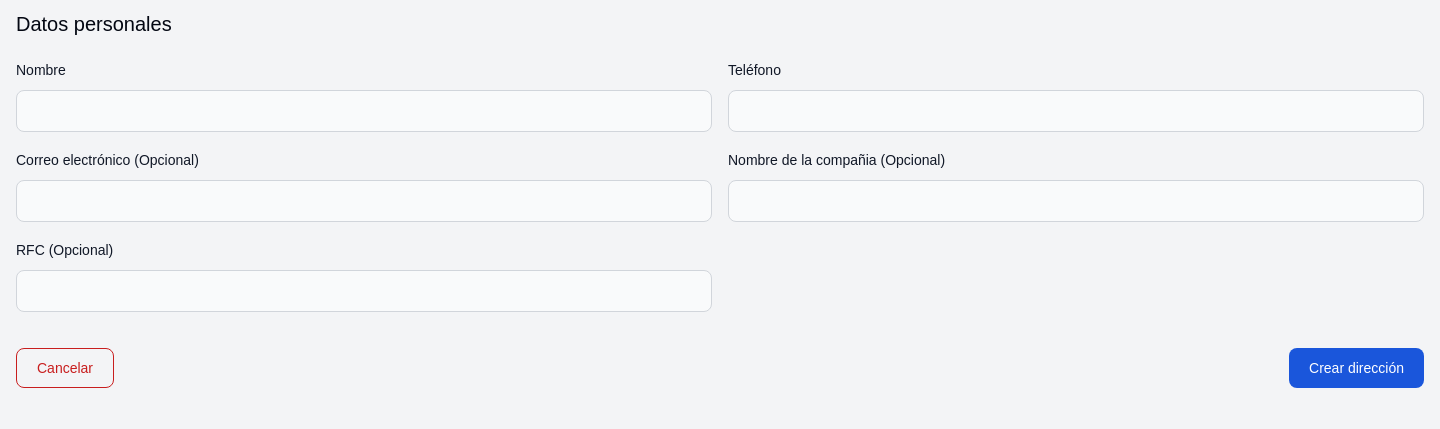
Test: Feature: Add Personal Information GE Subform › Error validation › Given the user submits empty form, When validation fails, Then it should display error messages
Click the button with test id "submit-button-create-address-ge": (1357, 368) x1=1289 y1=348 x2=1424 y2=388
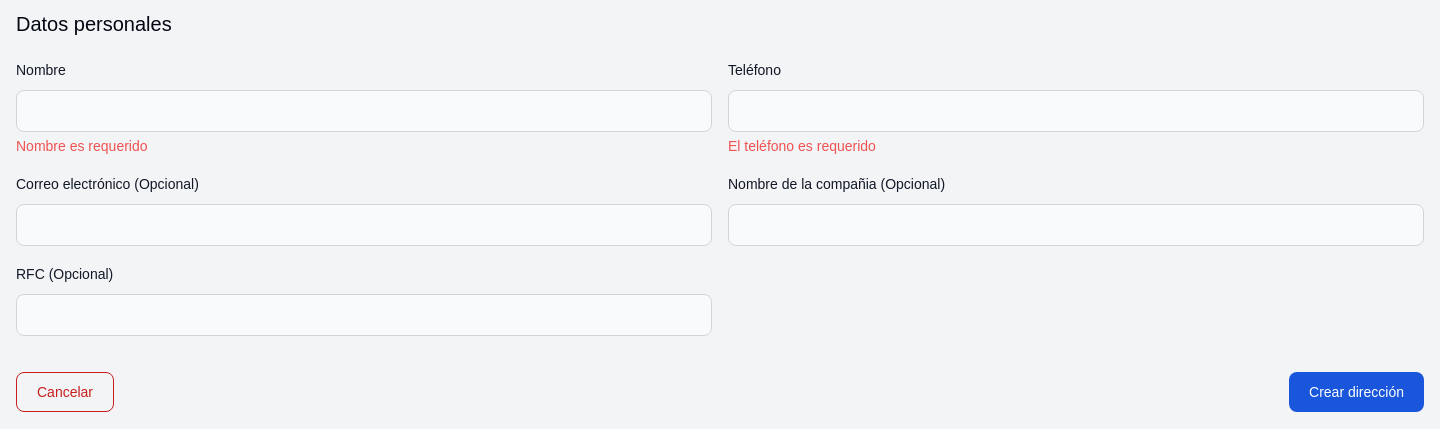
Expected: the text "Nombre es requerido" is shown, x1=16 y1=138 x2=148 y2=154
Expected: the text "El teléfono es requerido" is shown, x1=728 y1=138 x2=876 y2=154
